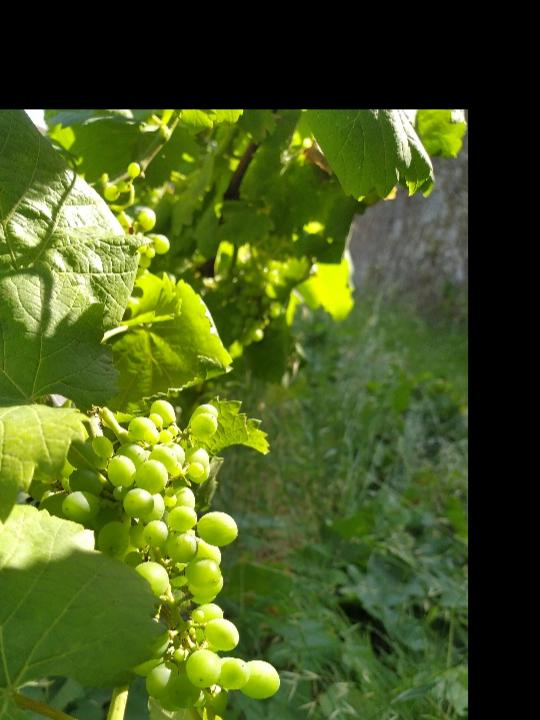grape: (52, 381, 282, 716)
